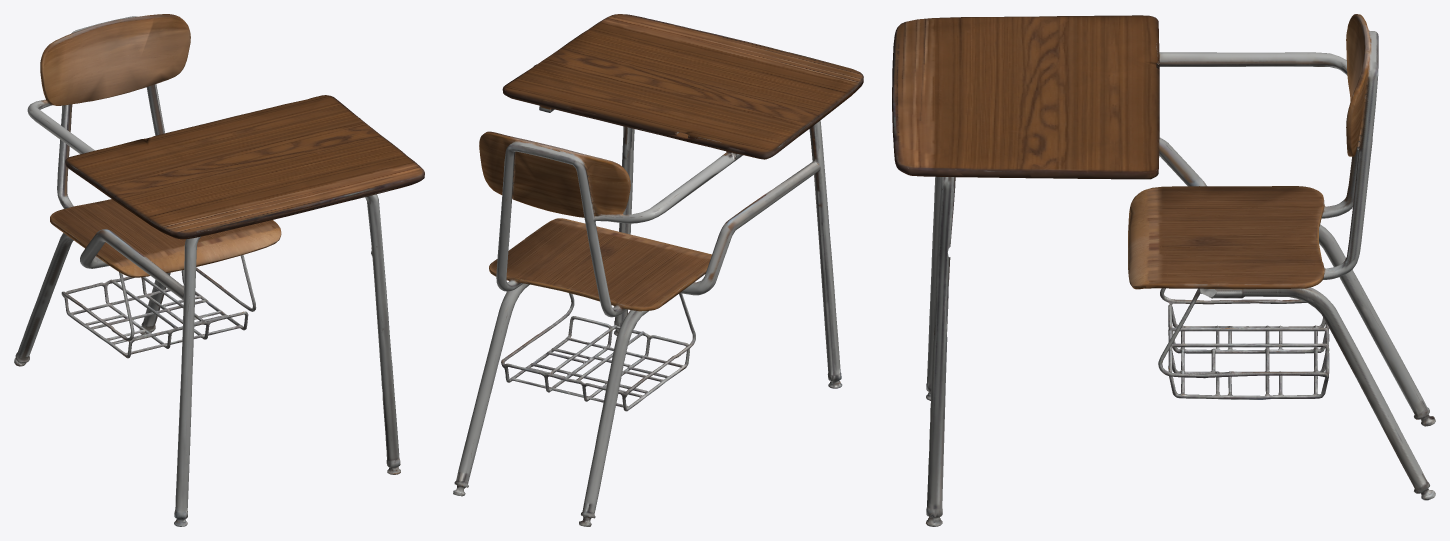
Rendered from school-desk-chair4.glb.
3 renders of one model, left to right at view 1: azimuth 30°, elevation 25°; view 2: azimuth 150°, elevation 25°; view 3: azimuth 270°, elevation 25°, orthographic. The views are drawn at different scales.
Visible parts, largest first — view 1: Mesh1.0; view 2: Mesh1.0; view 3: Mesh1.0.
Boxes of the visible parts, x1,y1,x2,y2 form: Mesh1.0: [14, 14, 424, 526]; Mesh1.0: [453, 14, 863, 526]; Mesh1.0: [892, 14, 1435, 526].
Size of the model in its own units: 0.65 by 0.8 by 0.9445.
Materials: 1 (1 with a texture image).
